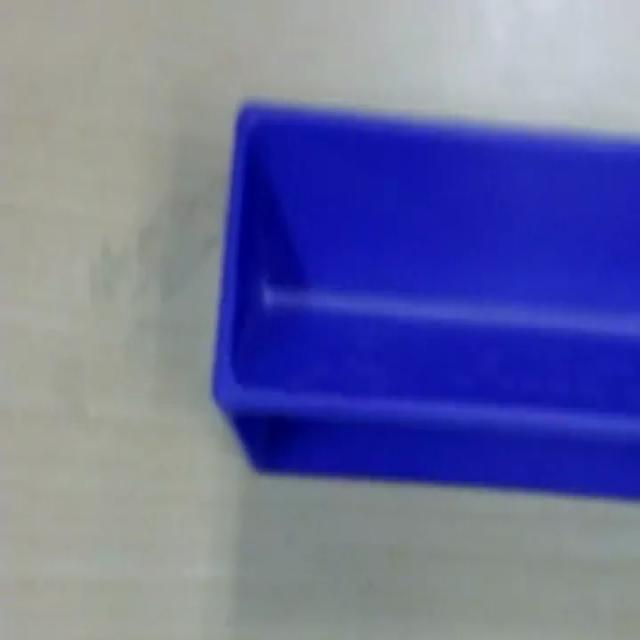blue_block: (210, 96, 639, 500)
